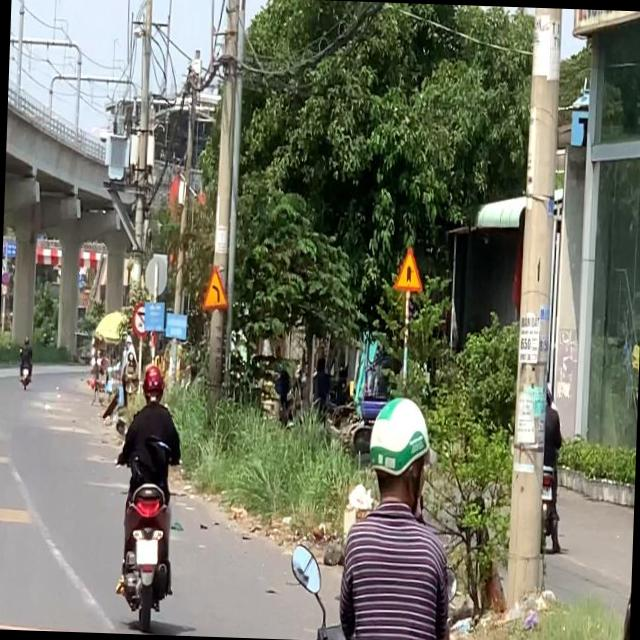W-201a: (200, 266, 227, 310)
W-207b: (392, 246, 422, 294)
